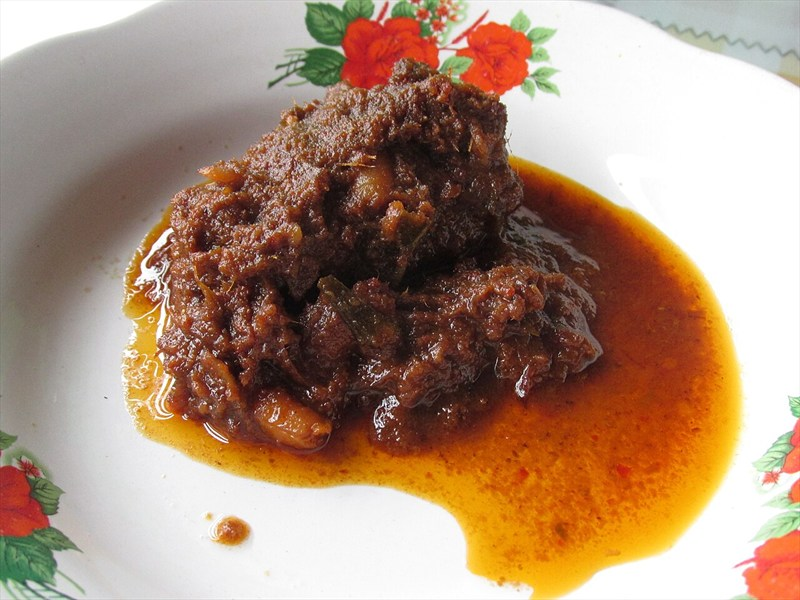Rendang: (157, 49, 718, 546)
